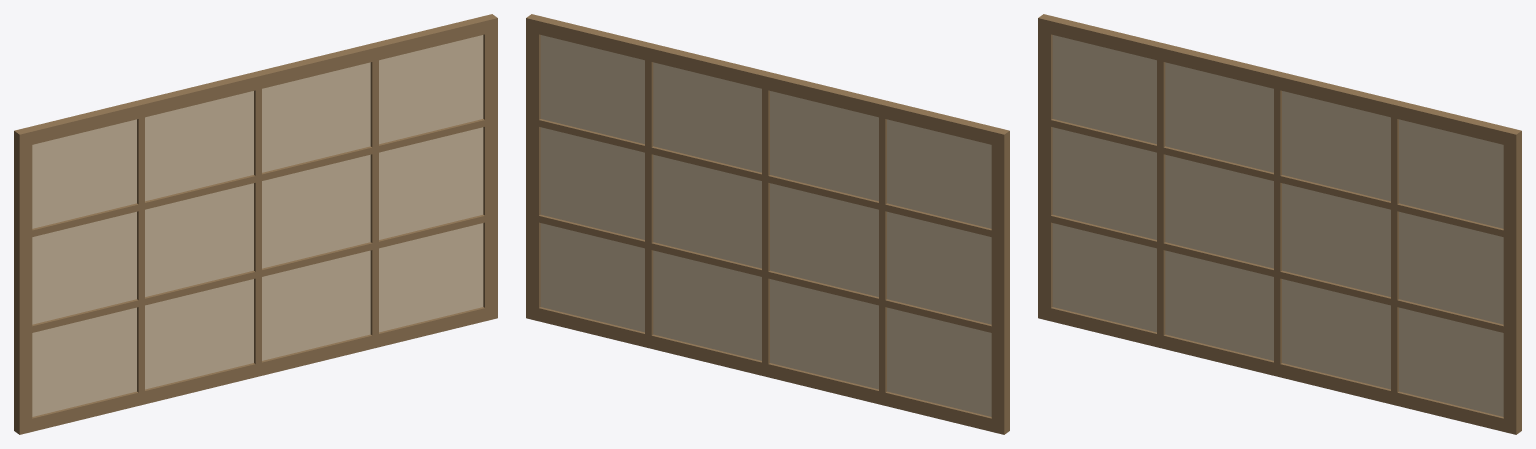
File: SM_Prop_Divider_01.glb
The picture shows the model from 3 angles, left to right: view 1: azimuth 30°, elevation 25°; view 2: azimuth 150°, elevation 25°; view 3: azimuth 330°, elevation 25°; orthographic projection.
Visible parts, largest first — view 1: SM_Prop_Divider_01; view 2: SM_Prop_Divider_01; view 3: SM_Prop_Divider_01.
Boxes of the visible parts, box(x1,y1,x2,y2) form: SM_Prop_Divider_01: box(14, 14, 497, 434); SM_Prop_Divider_01: box(526, 14, 1009, 434); SM_Prop_Divider_01: box(1038, 14, 1521, 434).
Size of the model in its own units: 2.5 by 1.5 by 0.05.
Materials: 1 (1 with a texture image).
